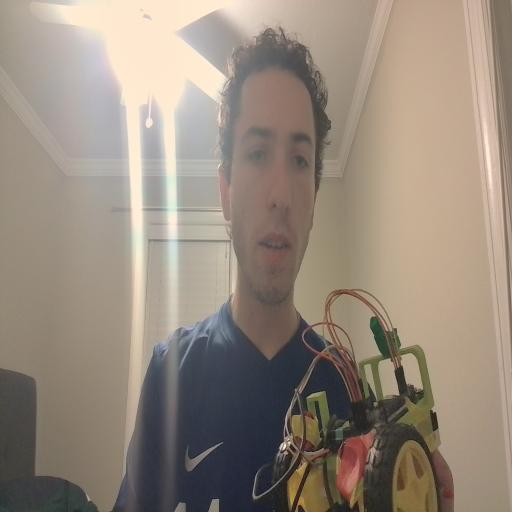green LEGO minifig: (368, 312, 401, 362)
